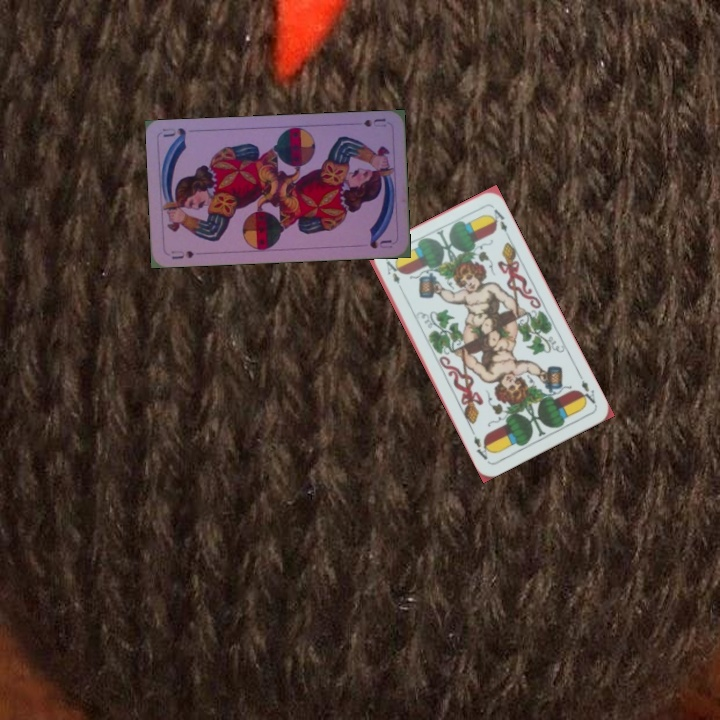EA: (382, 256, 406, 295), (575, 370, 599, 408)
SU: (359, 114, 388, 130), (167, 247, 196, 261)
